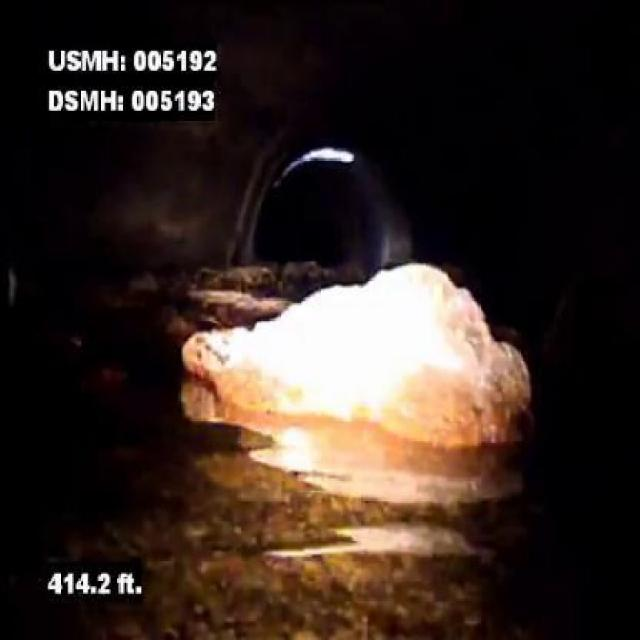Debris: (177, 254, 540, 457)
